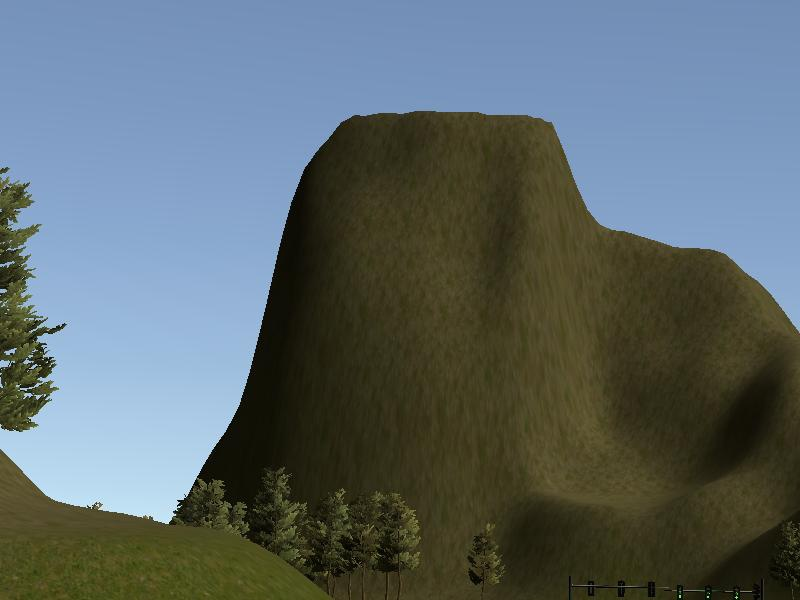Green: (676, 581, 685, 599), (703, 584, 713, 600), (731, 585, 742, 599)
